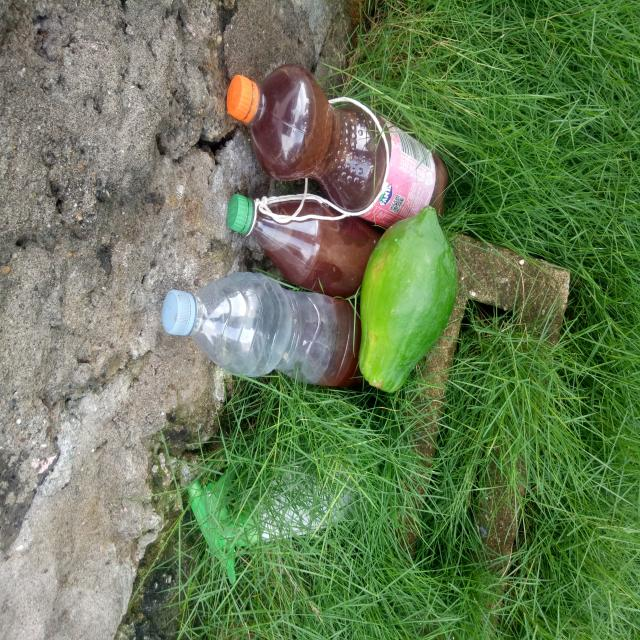Pepaya unrippen: (354, 197, 455, 390)
